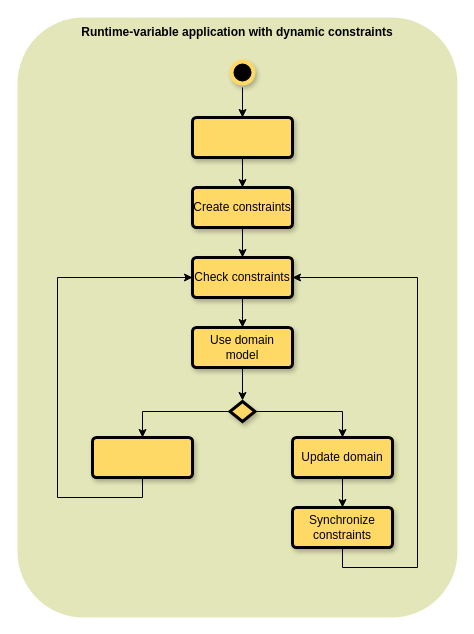
Some shapes in this 474 by 634 pixel diagram are drawn without their labels. Each missing label, with the centre of its shape:
"Create domain" belongs at (243,139).
"Update constraints" belongs at (143,459).
